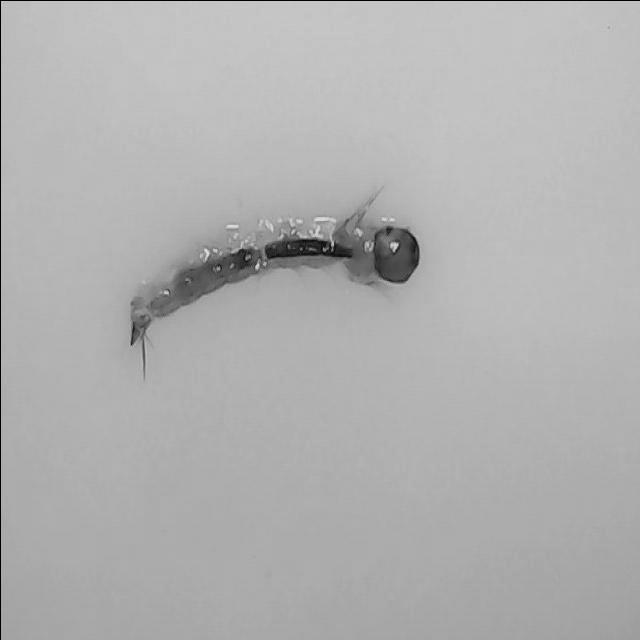larvas: (133, 192, 417, 343)
